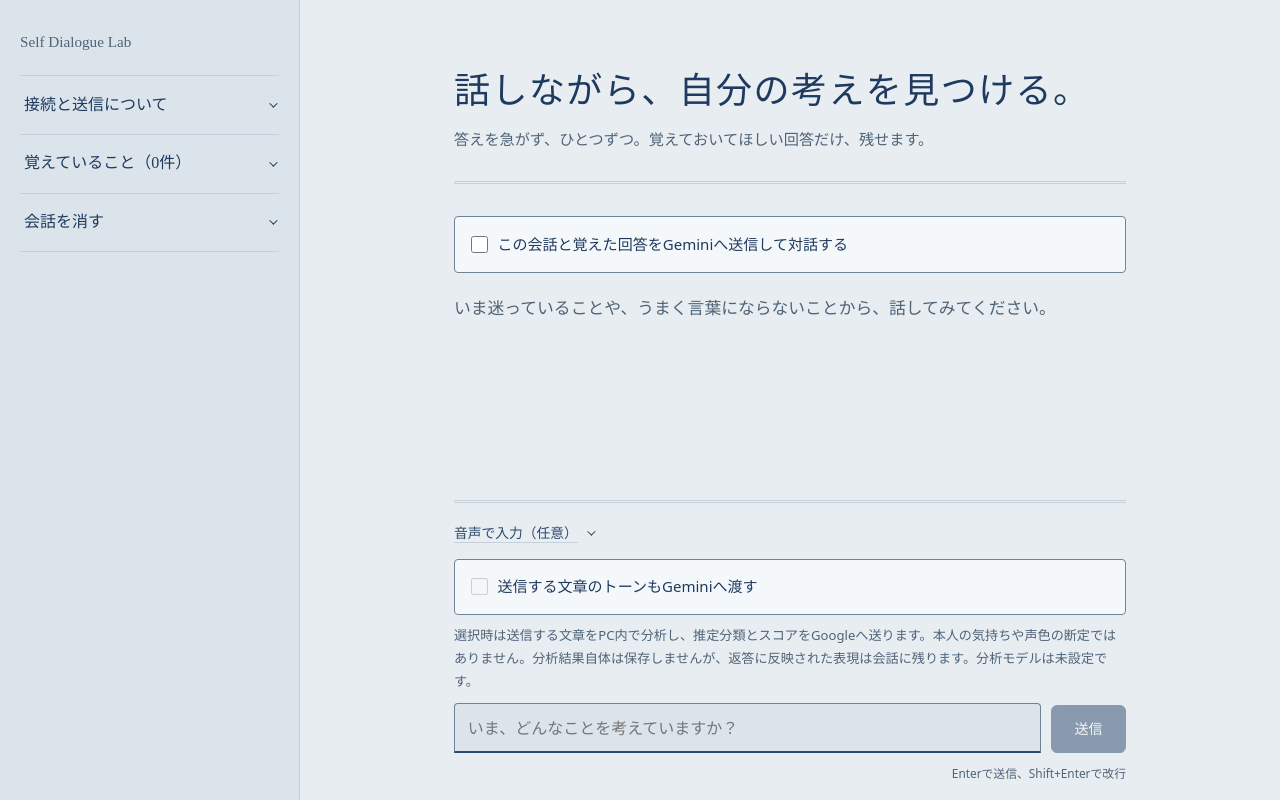
Test case: voice input › keeps text input available when the model is not configured
The image size is (1280, 800).
Step 1. Click the heading "音声で入力（任意）" → (524, 533), box [454,518,593,549]
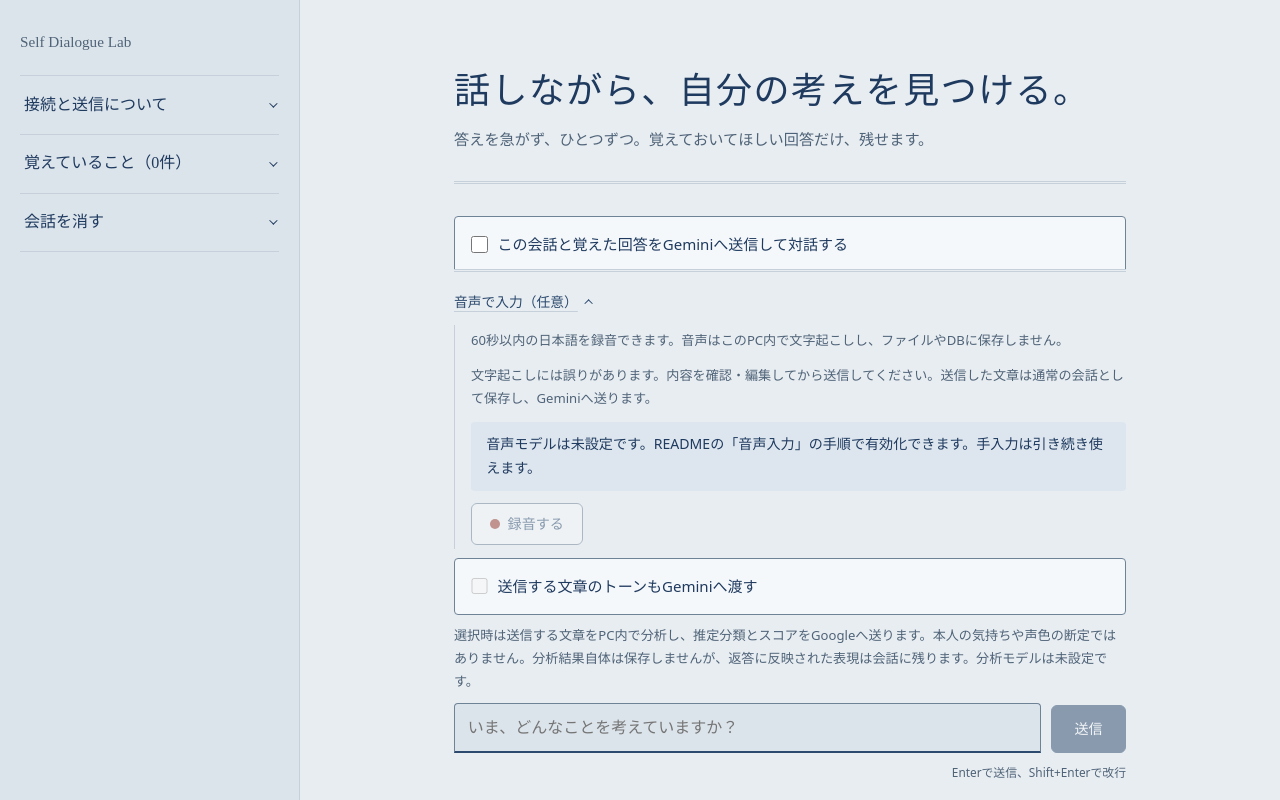
Result: the button "録音する" is disabled at [471,503,582,545]
Result: the text "音声モデルは未設定です。READMEの「音声入力」の手順で有効化できます。手入力は引き続き使えます。" is shown at [471,422,1126,491]
Step 2. Click the checkbox labelled "この会話と覚えた回答をGeminiへ送信して対話する" → (479, 244), box [471,236,488,253]
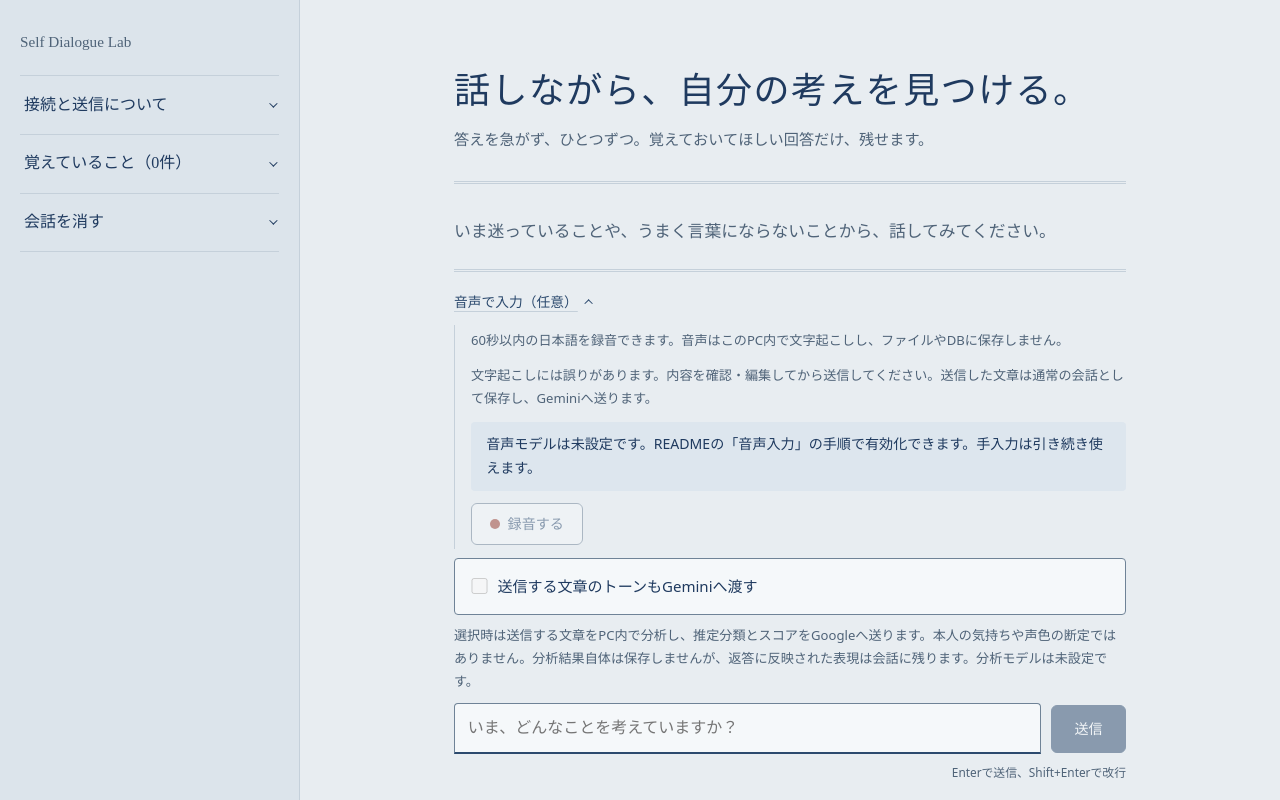
Result: the text box named "メッセージ" is enabled at [454,703,1042,753]
